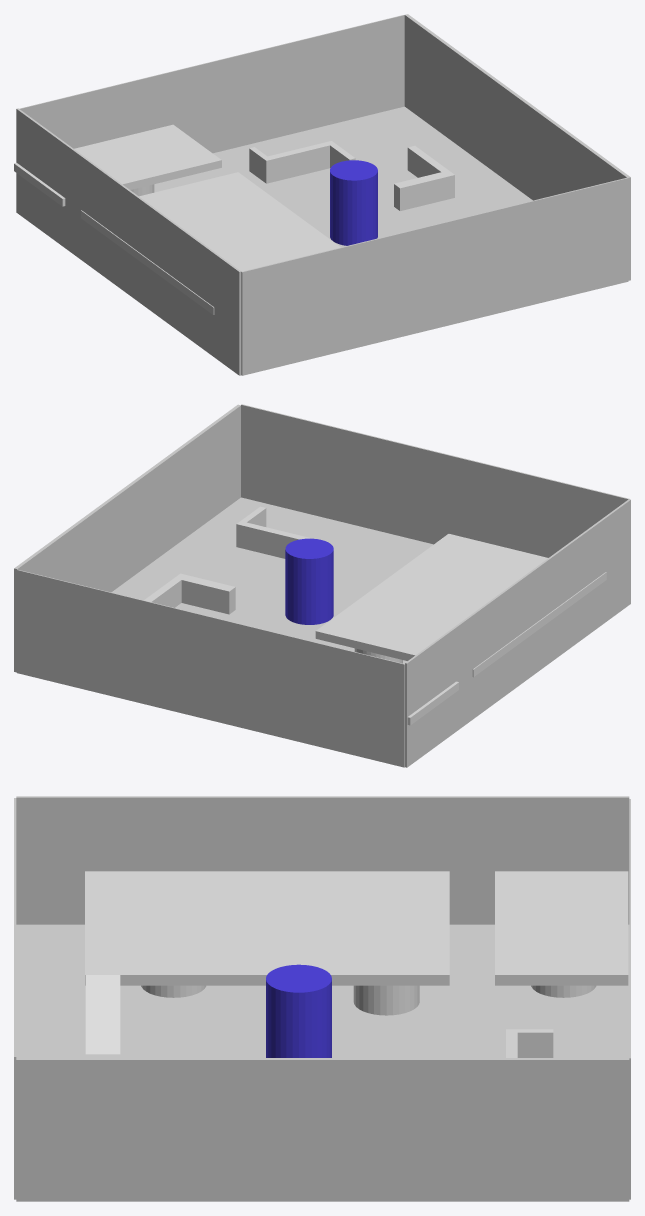
File: maps.glb
The picture shows the model from 3 angles, top to bottom: view 1: azimuth 30°, elevation 25°; view 2: azimuth 150°, elevation 25°; view 3: azimuth 270°, elevation 25°; orthographic projection. The views are drawn at different scales.
Visible parts, largest first — view 1: Cube.1324, Cube.003, Cube.005, Cylinder.003, Cube.004, Cube.001; view 2: Cube.1324, Cube.003, Cylinder.003, Cube.001, Cube, Cube.005; view 3: Cube.1324, Cube.003, Cube.005, Cylinder.003, Cube.002, Cylinder, Cube.004, Cylinder.001, Cylinder.002.
Boxes of the visible parts, bbox=[...] form: Cube.1324: bbox=[16, 14, 630, 375]; Cube.003: bbox=[81, 172, 340, 314]; Cube.005: bbox=[14, 124, 221, 206]; Cylinder.003: bbox=[330, 160, 377, 245]; Cube.004: bbox=[249, 141, 355, 183]; Cube.001: bbox=[394, 146, 454, 210]; Cube.1324: bbox=[14, 404, 630, 767]; Cube.003: bbox=[315, 534, 606, 677]; Cylinder.003: bbox=[285, 538, 333, 624]; Cube.001: bbox=[144, 573, 235, 614]; Cube: bbox=[236, 506, 310, 558]; Cube.005: bbox=[407, 681, 458, 725]; Cube.1324: bbox=[14, 796, 630, 1201]; Cube.003: bbox=[85, 871, 449, 985]; Cube.005: bbox=[495, 871, 628, 985]; Cylinder.003: bbox=[266, 964, 331, 1057]; Cube.002: bbox=[85, 975, 120, 1054]; Cylinder: bbox=[353, 985, 419, 1015]; Cube.004: bbox=[506, 1029, 553, 1057]; Cylinder.001: bbox=[141, 985, 206, 997]; Cylinder.002: bbox=[531, 985, 596, 997].
Size of the model in its own units: 108 by 27.21 by 107.
